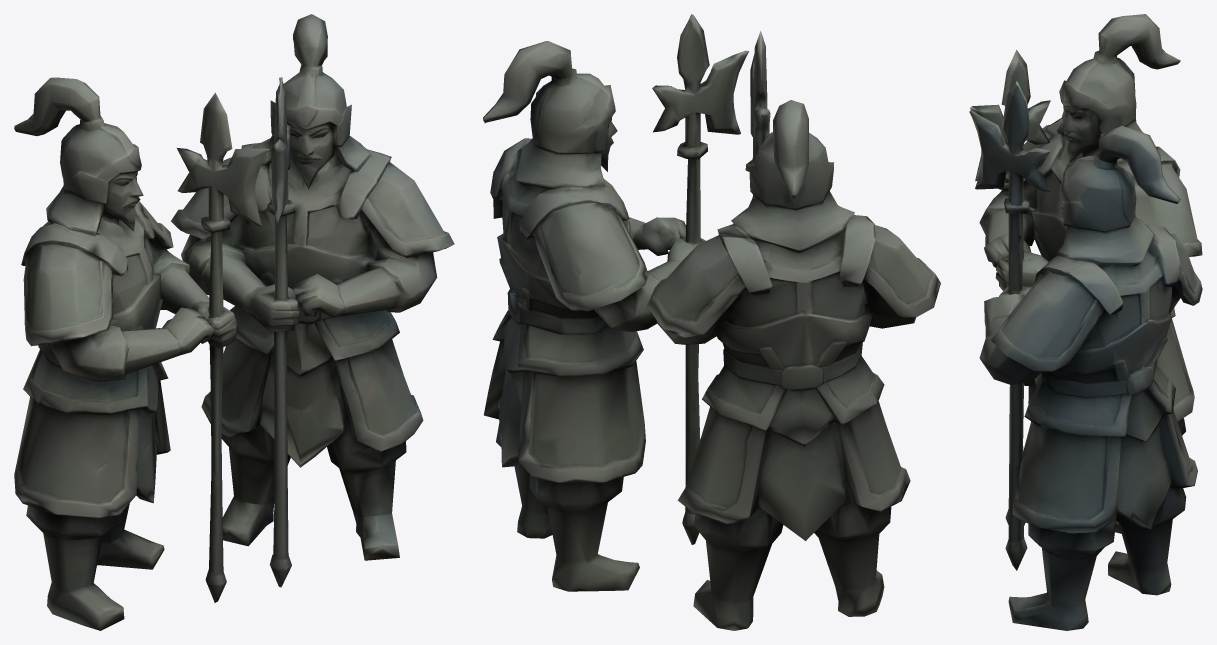
Rendered from tg_bijian.glb.
The picture shows the model from 3 angles, left to right: view 1: azimuth 30°, elevation 25°; view 2: azimuth 150°, elevation 25°; view 3: azimuth 270°, elevation 25°; orthographic projection. The views are drawn at different scales.
Visible parts, largest first — view 1: tripo_node_c992fdfd-c569-4f60-844d-97b79203df67; view 2: tripo_node_c992fdfd-c569-4f60-844d-97b79203df67; view 3: tripo_node_c992fdfd-c569-4f60-844d-97b79203df67.
Boxes of the visible parts, box(x1,y1,x2,y2) form: tripo_node_c992fdfd-c569-4f60-844d-97b79203df67: box(14, 14, 454, 630); tripo_node_c992fdfd-c569-4f60-844d-97b79203df67: box(483, 14, 940, 630); tripo_node_c992fdfd-c569-4f60-844d-97b79203df67: box(969, 14, 1202, 630).
Size of the model in its own units: 0.8348 by 0.9787 by 0.4217.
1 material, 1 textured.
